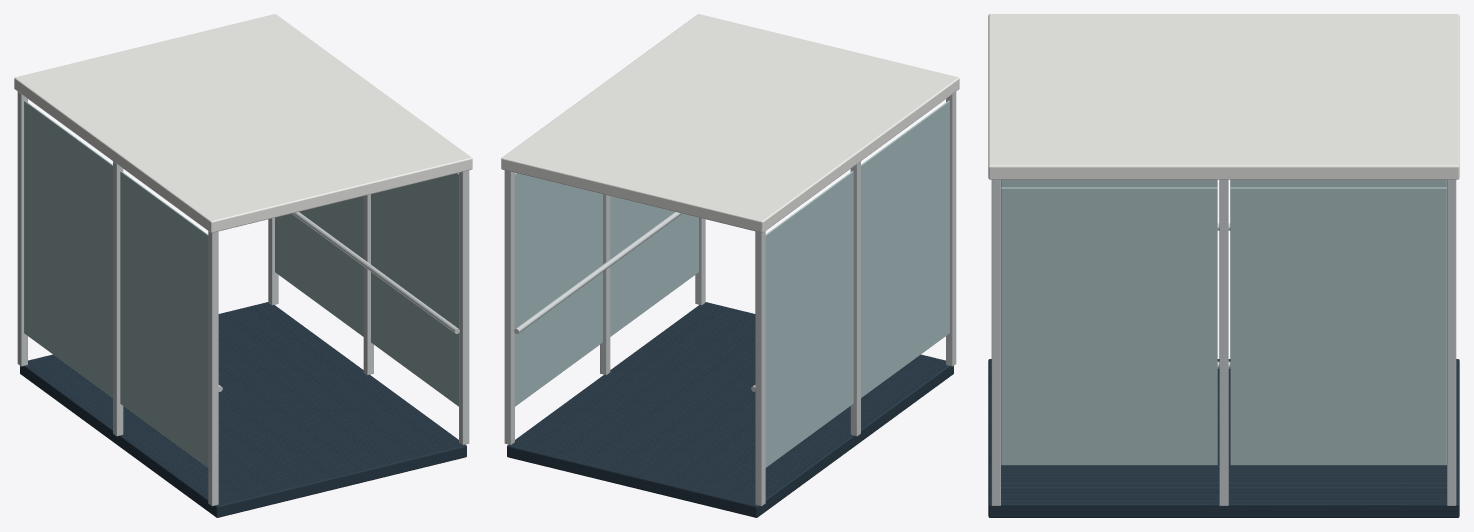
Rendered from jetbridge-section.glb.
3 views of the same model, side by side, from view 1: azimuth 30°, elevation 25°; view 2: azimuth 150°, elevation 25°; view 3: azimuth 270°, elevation 25° (orthographic). The views are drawn at different scales.
Parts seen in each view (by area): view 1: Roof, Floor, Window-1-0.73, Window-10.73, Window10.73, Window1-0.73, Frame-11.45, Frame11.45, Frame-10, Frame-1-1.45, Frame10, Handrail1 (+1 smaller); view 2: Roof, Floor, Window-10.73, Window-1-0.73, Window1-0.73, Window10.73, Frame-1-1.45, Frame1-1.45, Frame-10, Frame-11.45, Frame10, Handrail1 (+1 smaller); view 3: Roof, Window1-0.73, Window10.73, Floor, Frame10, Frame1-1.45, Frame11.45, Window-1-0.73, Window-10.73.
Boxes of the visible parts, x1,y1,x2,y2 form: Roof: (14, 14, 472, 232); Floor: (20, 302, 466, 517); Window-1-0.73: (24, 100, 112, 397); Window-10.73: (120, 171, 208, 467); Window10.73: (371, 173, 458, 406); Window1-0.73: (275, 196, 363, 336); Frame-11.45: (208, 231, 218, 506); Frame11.45: (459, 170, 469, 444); Frame-10: (113, 161, 123, 436); Frame-1-1.45: (17, 92, 27, 366); Frame10: (363, 194, 373, 375); Handrail1: (292, 212, 459, 333); Roof: (501, 14, 959, 232); Floor: (507, 302, 953, 517); Window-10.73: (861, 100, 949, 397); Window-1-0.73: (765, 171, 853, 467); Window1-0.73: (515, 173, 602, 406); Window10.73: (610, 196, 698, 336); Frame-1-1.45: (755, 231, 765, 506); Frame1-1.45: (504, 170, 514, 444); Frame-10: (850, 161, 860, 436); Frame-11.45: (946, 92, 956, 366); Frame10: (600, 194, 610, 375); Handrail1: (514, 212, 681, 333); Roof: (988, 14, 1459, 179); Window1-0.73: (1230, 187, 1446, 465); Window10.73: (1001, 187, 1217, 465); Floor: (988, 359, 1459, 517); Frame10: (1219, 179, 1228, 505); Frame1-1.45: (1447, 179, 1456, 505); Frame11.45: (991, 179, 1000, 505); Window-1-0.73: (1230, 179, 1446, 187); Window-10.73: (1001, 179, 1217, 187).
Bounding box in the file's own units: 2.3 × 2.5 × 3.
Materials: 5 (1 with a texture image).
